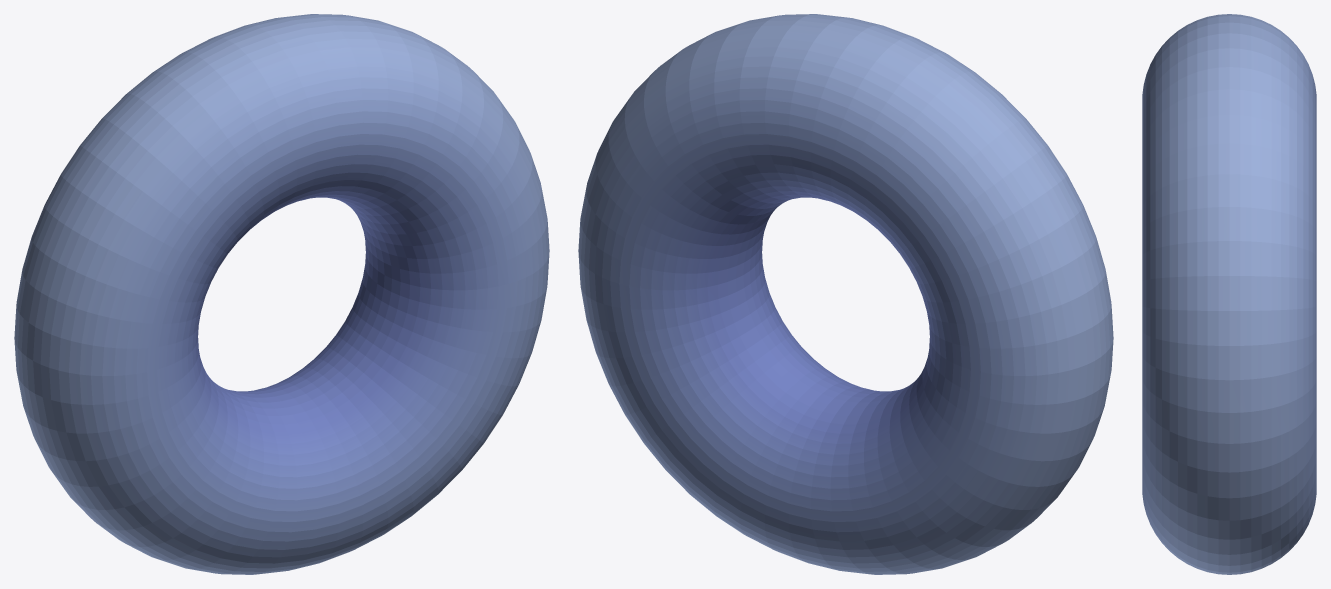
3 renders of one model, left to right at view 1: azimuth 30°, elevation 25°; view 2: azimuth 150°, elevation 25°; view 3: azimuth 270°, elevation 25°, orthographic. The views are drawn at different scales.
Parts seen in each view (by area): view 1: world; view 2: world; view 3: world.
Boxes of the visible parts, left/top/right/bottom form: world: left=14, top=14, right=549, bottom=574; world: left=578, top=14, right=1113, bottom=574; world: left=1142, top=14, right=1316, bottom=574.
Bounding box in the file's own units: 18.4 × 18.36 × 5.72.
